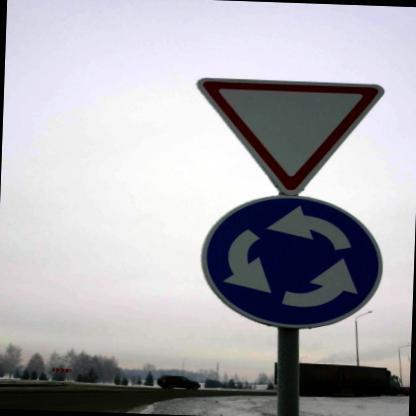road_sign: (201, 195, 384, 329), (195, 79, 386, 196)
